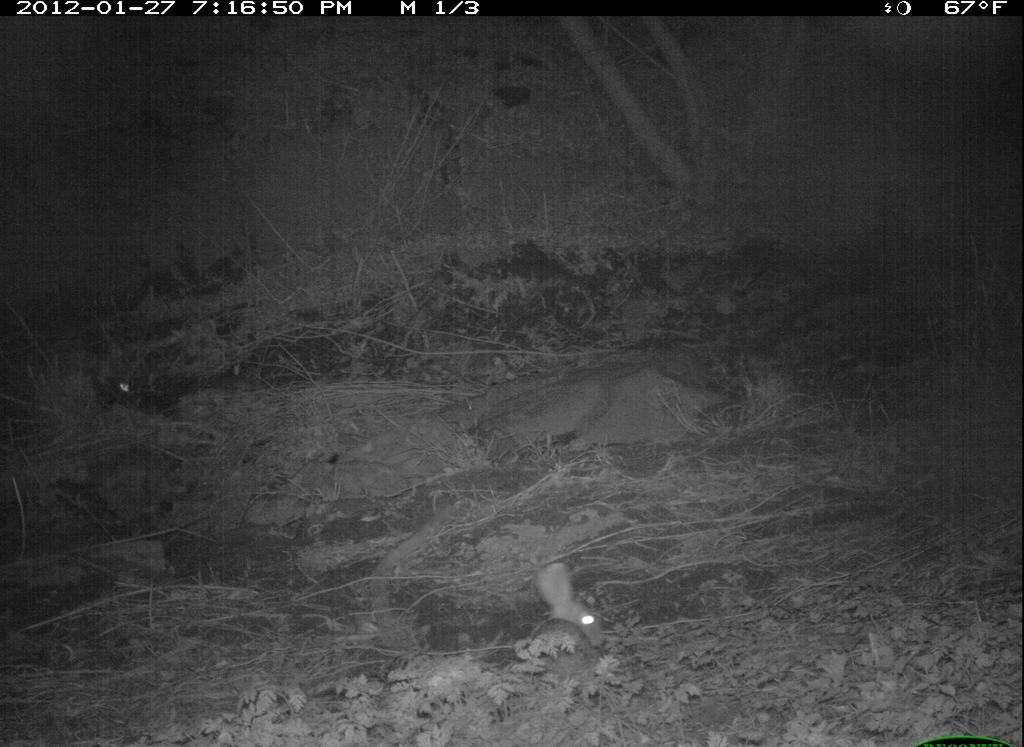rabbit: (521, 557, 625, 665)
